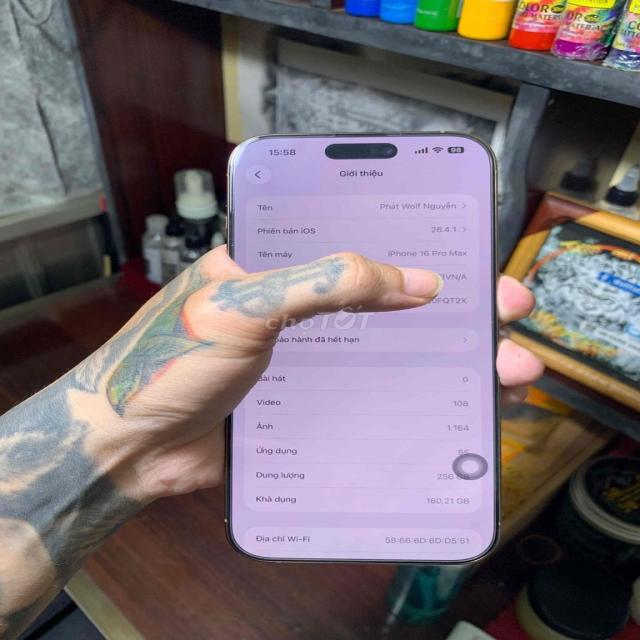gen_16: (227, 132, 498, 568)
